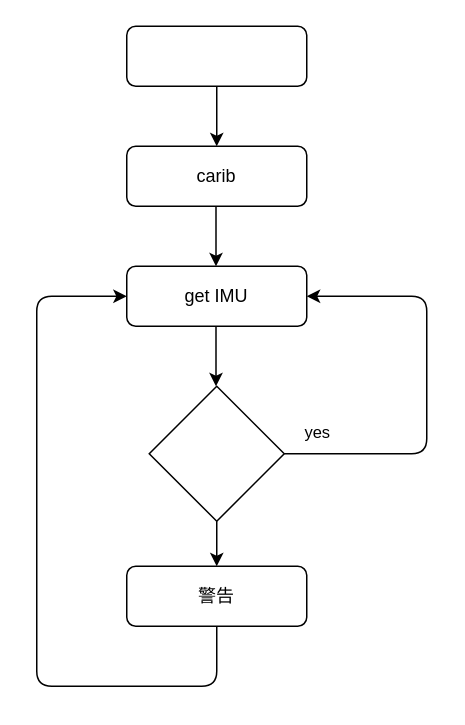
Some shapes in this 465 by 725 pixel diagram are drawn without their labels. The centre of each missing label's shape, as x and y in pixels:
start: (216,55)
姿勢 == 良い: (216,453)
